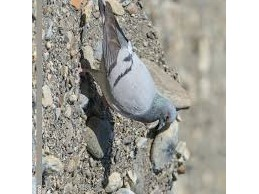pigeon: (76, 1, 177, 131)
